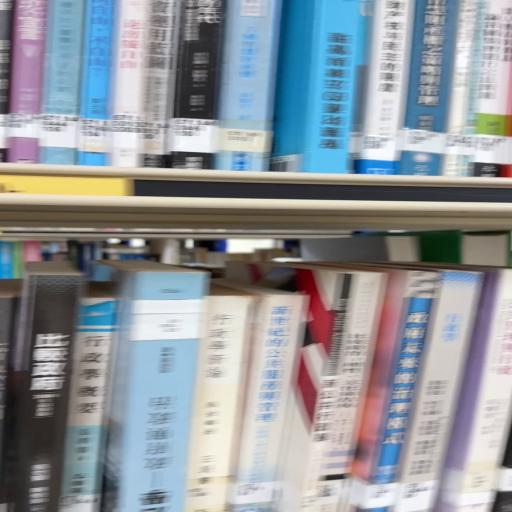reverse: (100, 261, 210, 512)
